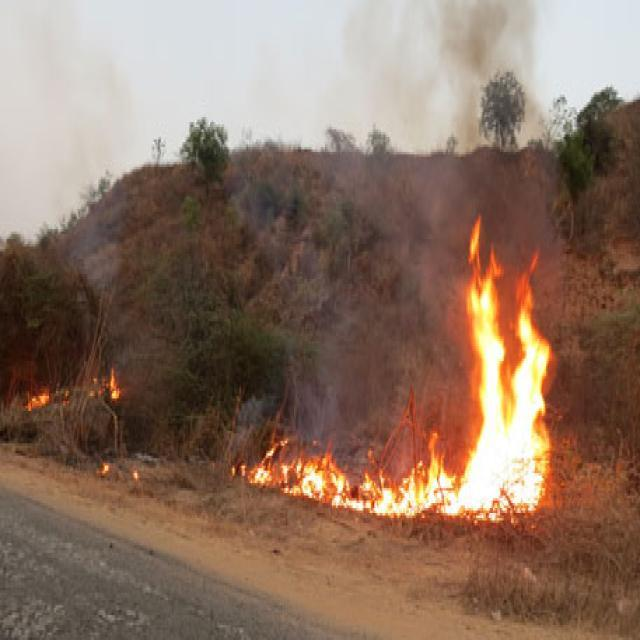Fire: (452, 241, 563, 532), (247, 428, 457, 534), (14, 383, 71, 437), (99, 363, 140, 416)
Smoke: (252, 192, 433, 414), (376, 24, 551, 251)
